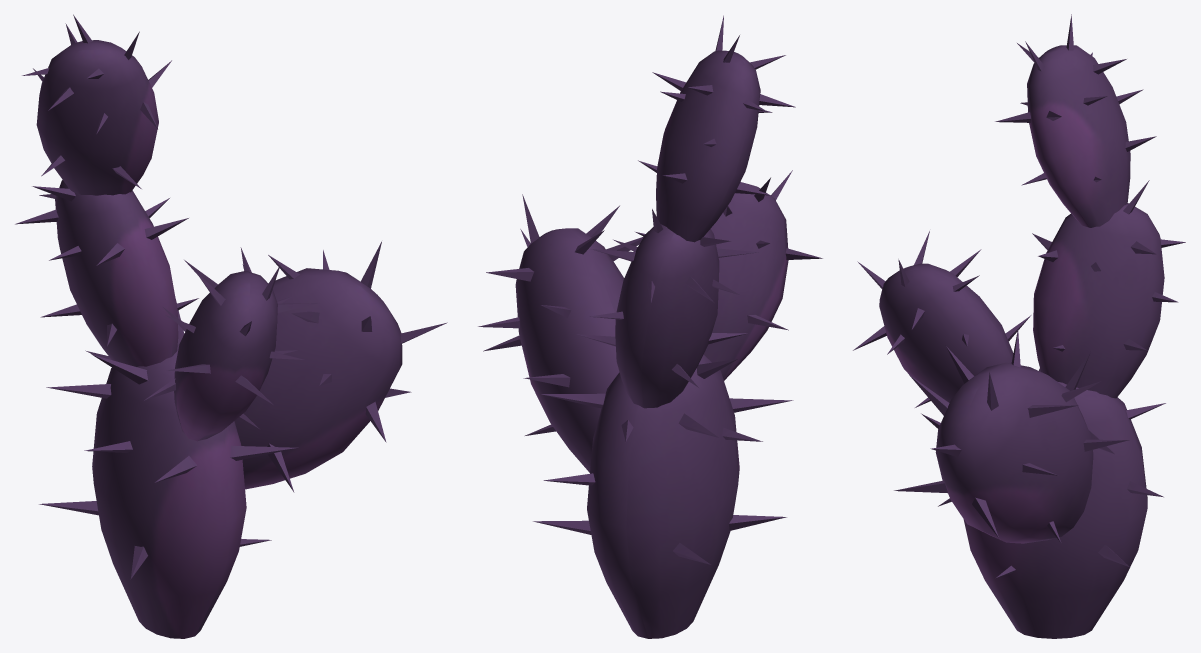
File: cact6.fbx
The picture shows the model from 3 angles, left to right: view 1: azimuth 30°, elevation 25°; view 2: azimuth 150°, elevation 25°; view 3: azimuth 270°, elevation 25°; orthographic projection. The views are drawn at different scales.
Parts seen in each view (by area): view 1: pCone136; view 2: pCone136; view 3: pCone136.
Boxes of the visible parts, x1,y1,x2,y2 form: pCone136: (15, 14, 447, 638); pCone136: (478, 15, 822, 638); pCone136: (853, 14, 1185, 638).
Bounding box in the file's own units: 2.58 × 4.5 × 2.37.
